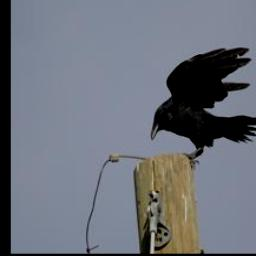Crow: (150, 44, 256, 168)
